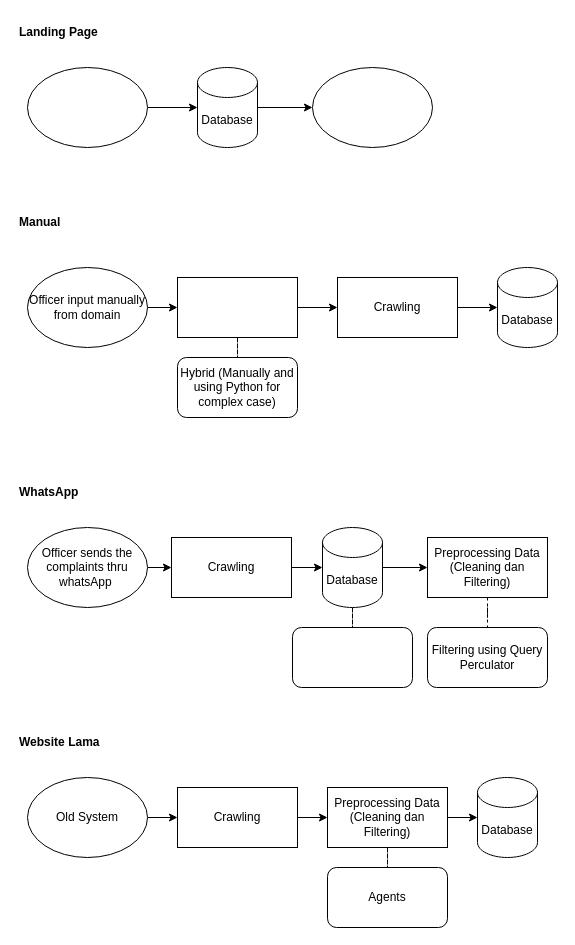
Image size: 575x945. Some labels were removed from this diagram. The centre of each missing label's shape, as x and y in pixels:
"Automatically generate the Ticket ID" goes at [352,657].
"Generate Ticket ID" goes at [372,107].
"Preprocessing Data (Cleaning dan Generalisasi)" goes at [237,307].
"User input using Landing Page" goes at [87,107].
